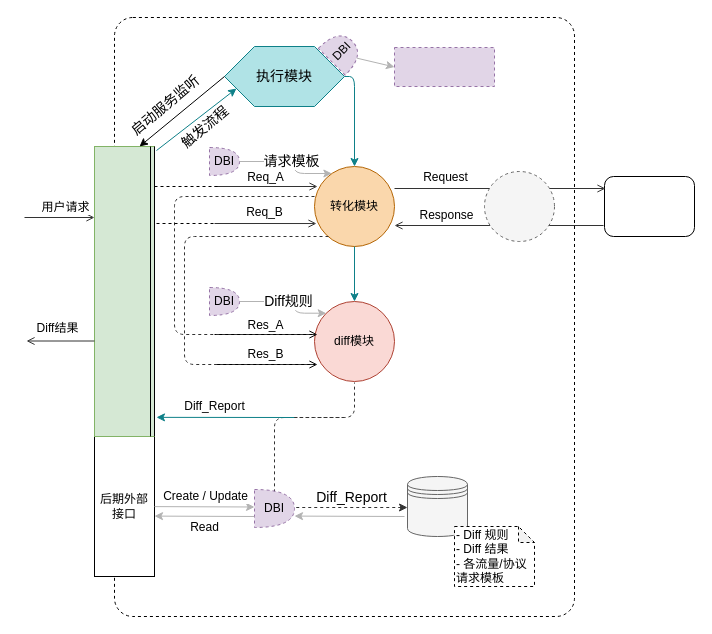
Some shapes in this 712 by 634 pixel diagram are drawn without their labels. Each missing label, with the box of its shape:
Database Interface: (394, 46, 494, 86)
DB: (406, 476, 468, 536)
display: (604, 176, 694, 236)
外部接口模块: (94, 146, 154, 436)
收发包: (484, 170, 554, 242)
